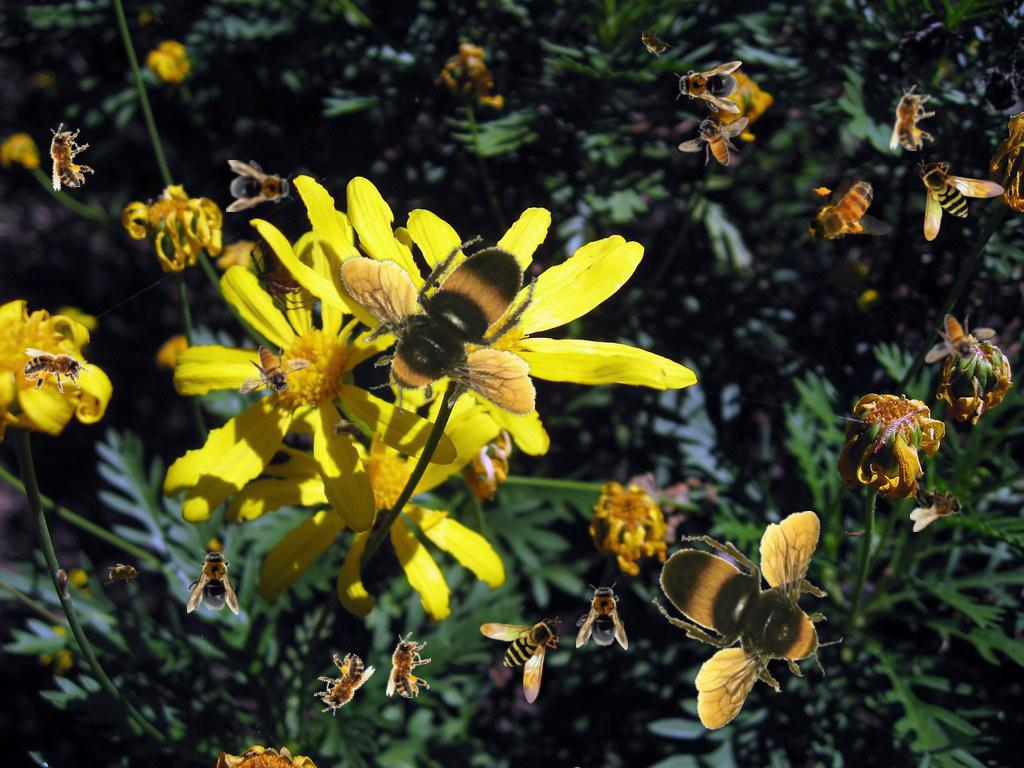Bee: (312, 208, 568, 441), (652, 511, 843, 731), (792, 170, 896, 255), (917, 159, 1005, 241), (480, 616, 562, 704), (305, 644, 377, 725), (37, 117, 99, 194), (925, 314, 996, 364), (239, 345, 310, 395), (678, 116, 749, 166), (576, 582, 628, 650), (187, 547, 239, 615), (226, 160, 294, 212), (674, 61, 742, 113), (910, 470, 963, 532), (890, 85, 935, 151), (386, 632, 431, 698), (24, 348, 90, 393), (631, 18, 675, 64), (328, 419, 368, 441), (104, 563, 144, 585)
